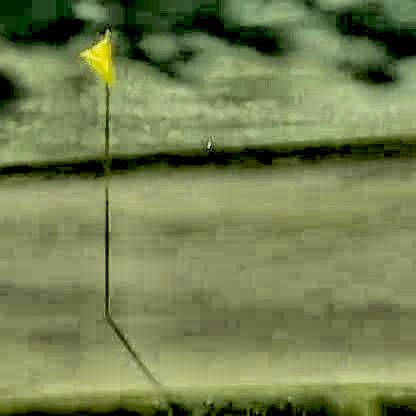golfball: (204, 135, 209, 145)
